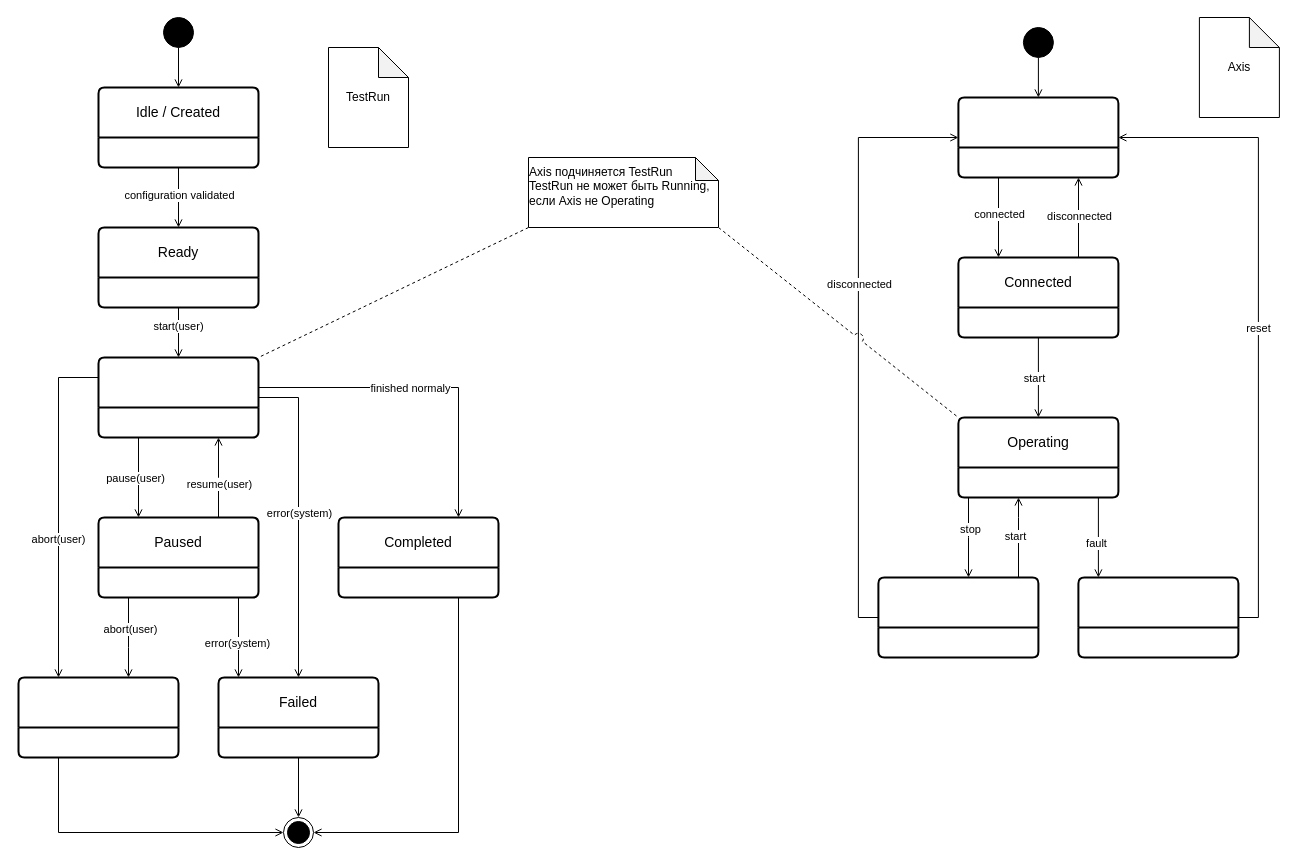
Some shapes in this 1297 by 865 pixel diagram are drawn without their labels. Each missing label, with the centre of its shape:
Aborted: the point at 98,717
Disconected: the point at 1038,137
Error: the point at 1158,617
Running: the point at 178,397
Stopped: the point at 958,617
